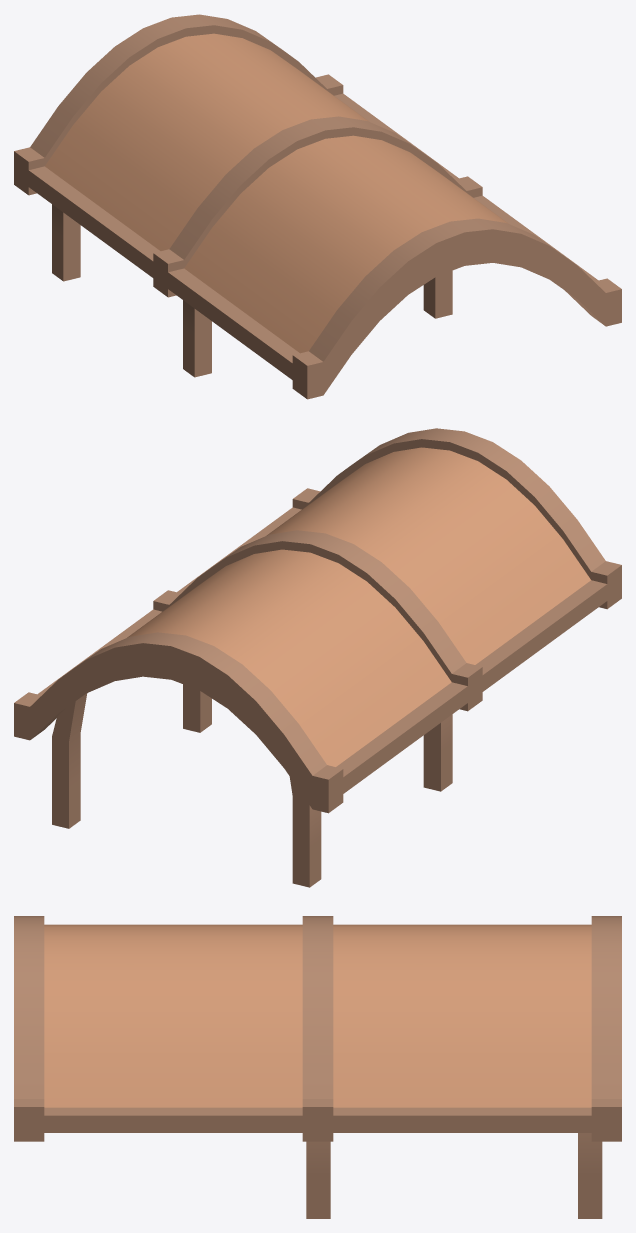
The model's file is bridge_3_up_3.fbx.
3 renders of one model, top to bottom at view 1: azimuth 30°, elevation 25°; view 2: azimuth 150°, elevation 25°; view 3: azimuth 270°, elevation 25°, orthographic. The views are drawn at different scales.
Parts seen in each view (by area): view 1: bridge_3_up_3; view 2: bridge_3_up_3; view 3: bridge_3_up_3.
Part boxes in pixels (box(x1,y1,x2,y2)): bridge_3_up_3: box(14, 14, 621, 399); bridge_3_up_3: box(14, 428, 621, 887); bridge_3_up_3: box(14, 916, 621, 1218).
Size of the model in its own units: 9.8 by 6.46 by 15.83.
